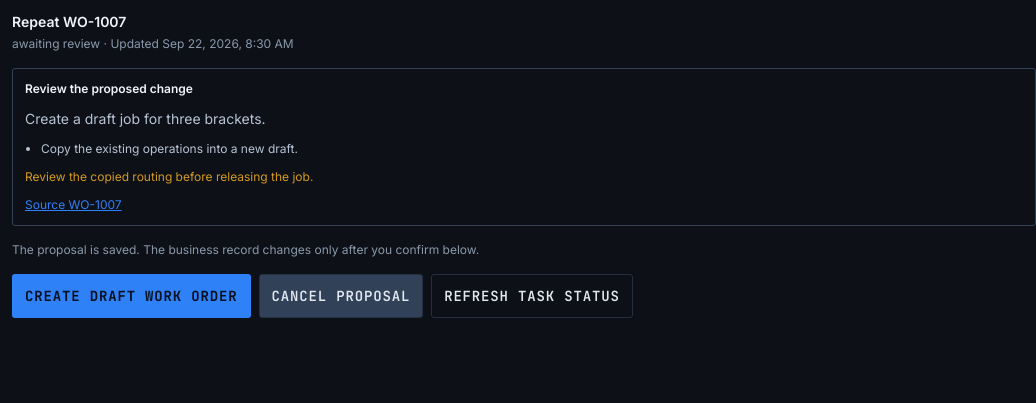
Test case: HankTaskWorkflow › recovers an uncertain execution through status refresh without executing twice
Click the button "Create draft work order": (131, 296) top-left (12, 274), bottom-right (250, 318)
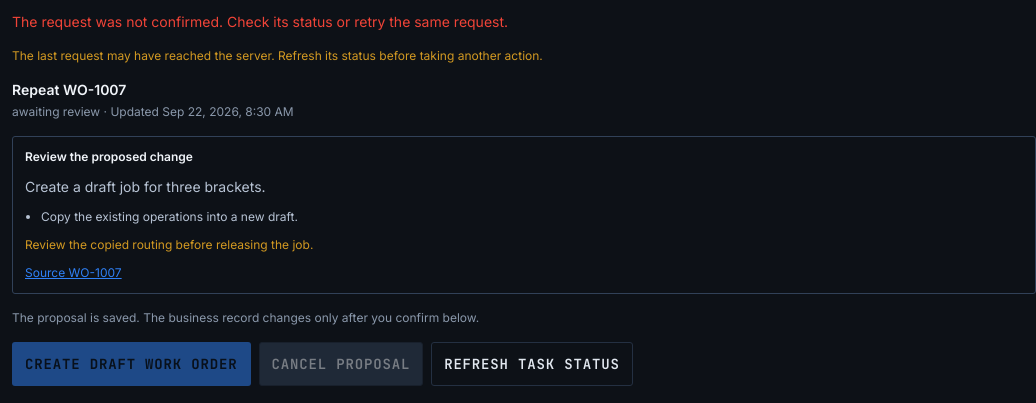
expect the text "Refresh its status before taking another action" is shown: met, box top-left (278, 48), bottom-right (543, 63)
expect the button "Create draft work order" is disabled: met, box top-left (12, 342), bottom-right (250, 386)
expect the button "Cancel proposal" is disabled: met, box top-left (258, 342), bottom-right (423, 386)
Click the button "Refresh task status": (532, 364) top-left (431, 342), bottom-right (633, 386)
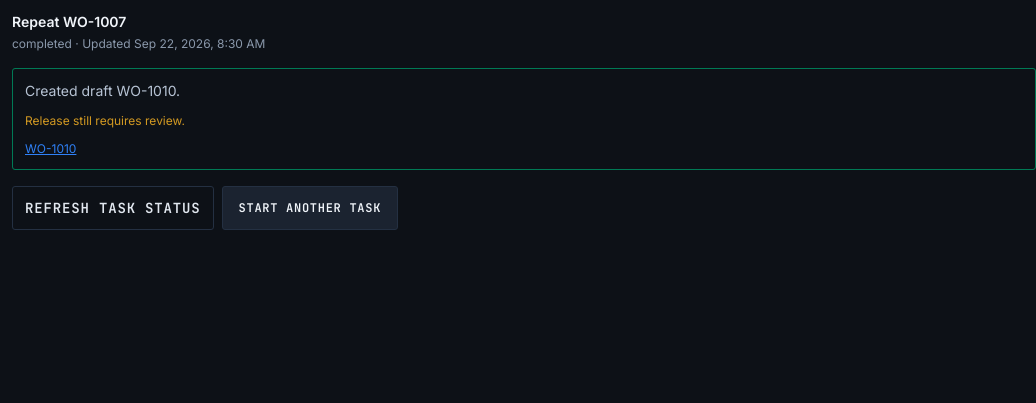
expect the text "Created draft WO-1010." is shown: met, box top-left (25, 82), bottom-right (180, 99)
